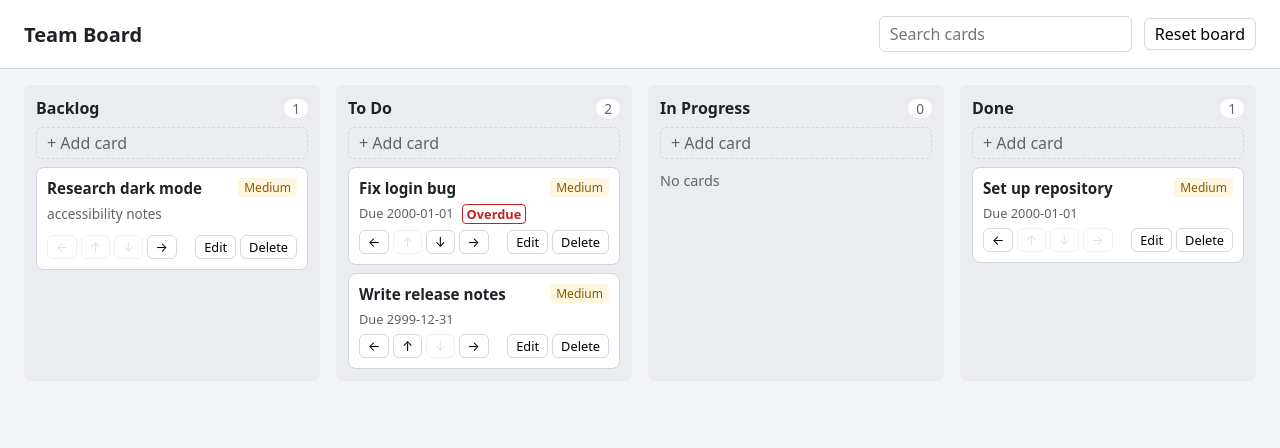
Test: App › shows the server error when an action fails
Click the button named "Move down: Fix login bug": (440, 242) [426,230,455,254]
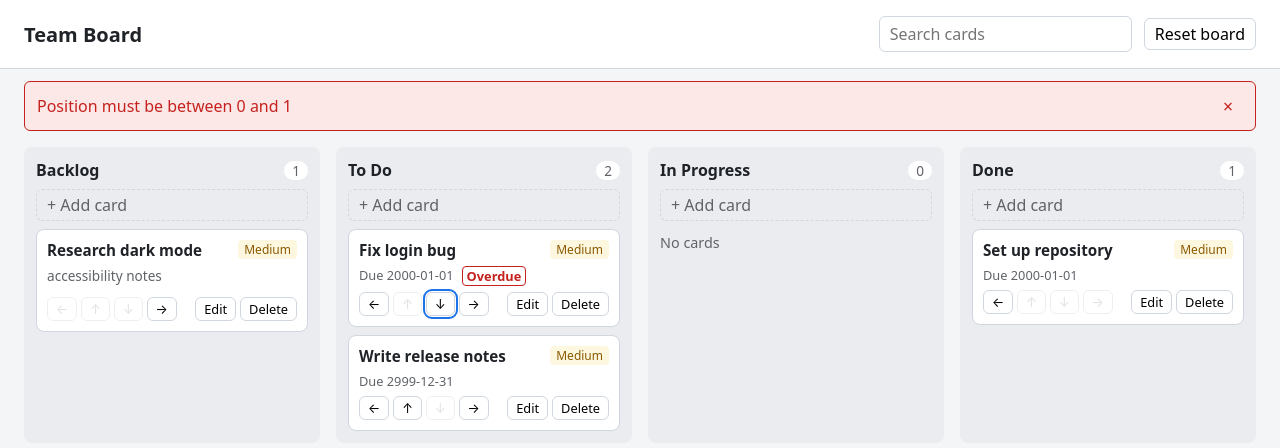
Result: the message shows "Position must be between 0 and 1" at [37,95,292,117]
